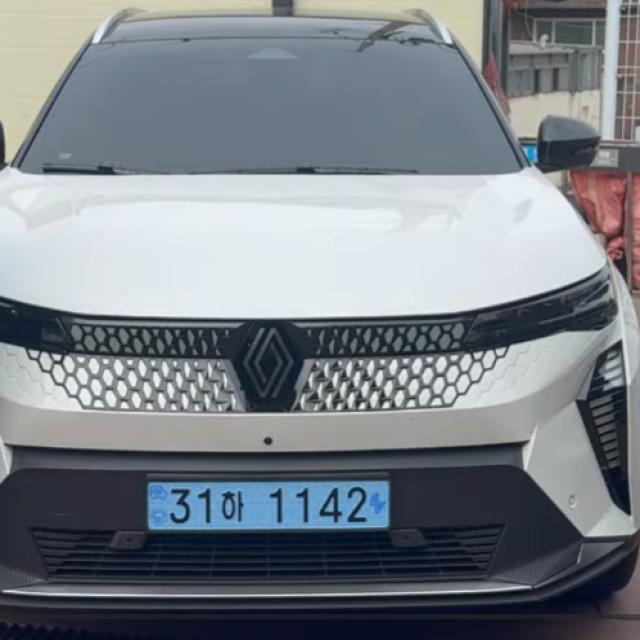car: (106, 464, 434, 552)
carev: (368, 472, 400, 539), (141, 474, 170, 541)
